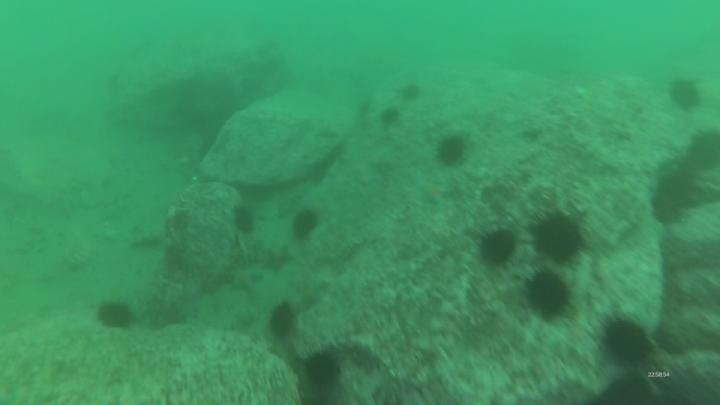echinus: (530, 209, 587, 266), (599, 315, 654, 367), (649, 167, 698, 225), (523, 268, 574, 321), (600, 372, 657, 405), (476, 226, 519, 268), (302, 350, 343, 391), (686, 128, 720, 172), (667, 76, 704, 114), (95, 298, 136, 332), (266, 300, 299, 341), (434, 133, 469, 168), (289, 206, 321, 242), (230, 204, 258, 237), (377, 105, 403, 130), (397, 80, 424, 104), (354, 97, 374, 120)
starfish: (226, 264, 265, 296), (414, 176, 452, 207), (261, 244, 294, 275)
